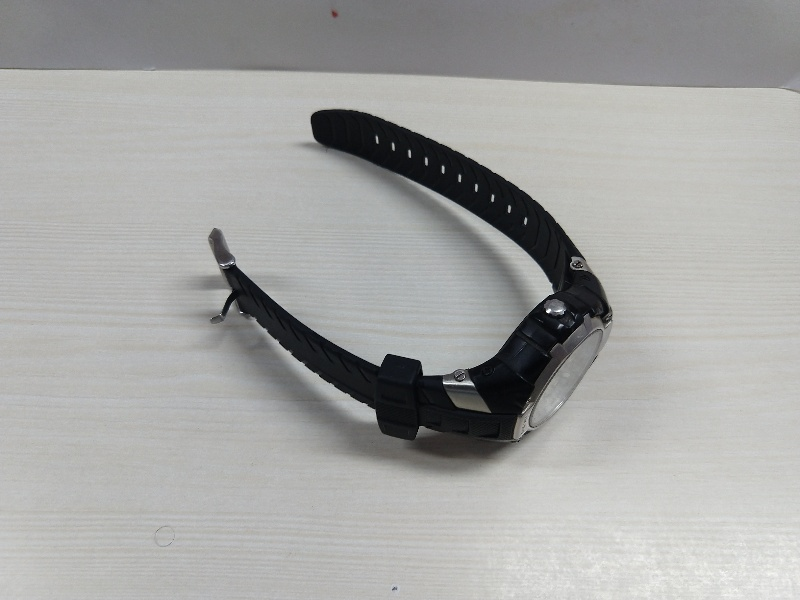watch: (198, 105, 631, 455)
